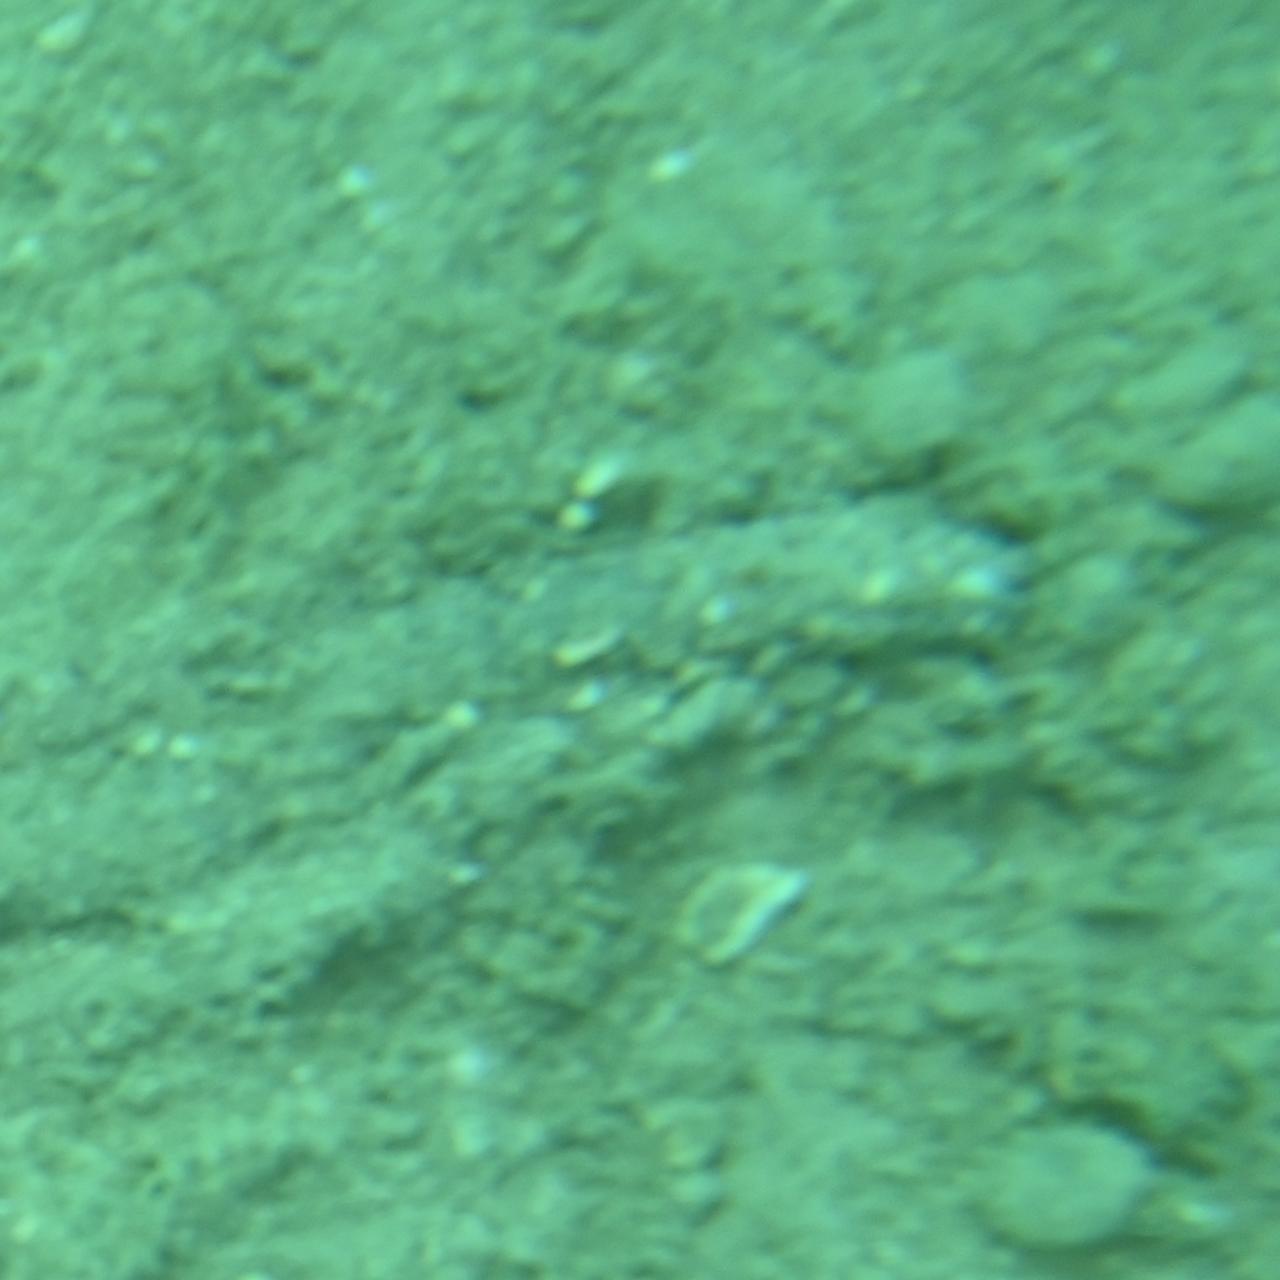Holothuria tubulosa: (201, 477, 1079, 803)
